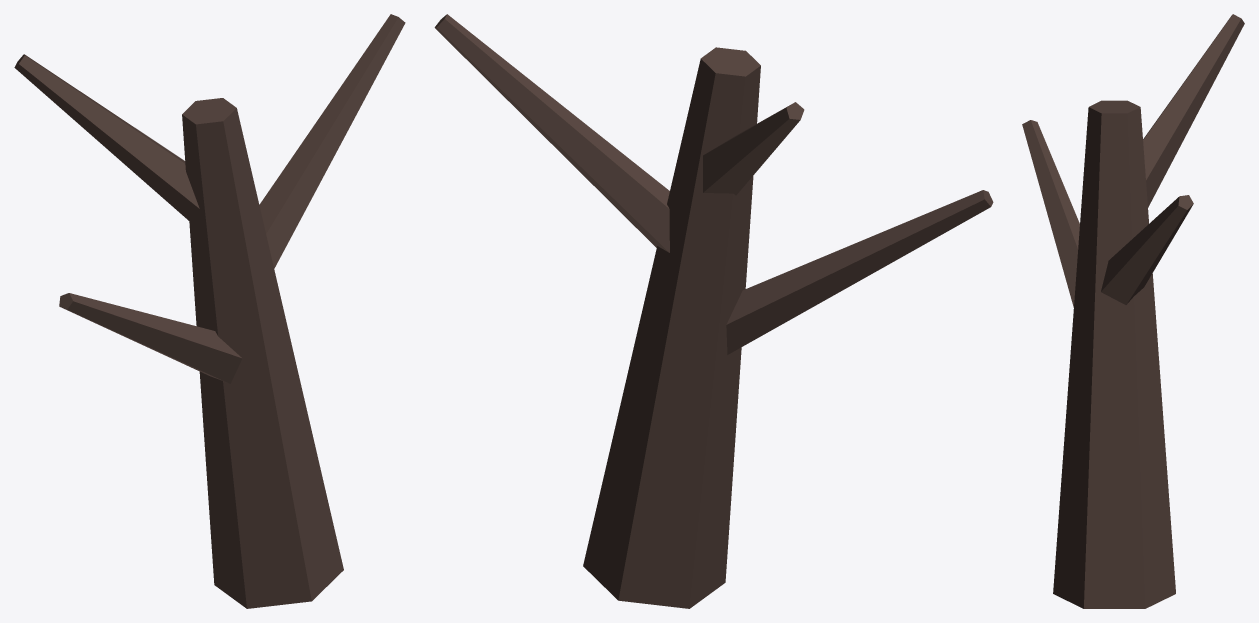
Rendered from EXTG_SouthThorn_03.glb.
3 views of the same model, side by side, from view 1: azimuth 30°, elevation 25°; view 2: azimuth 150°, elevation 25°; view 3: azimuth 270°, elevation 25° (orthographic). The views are drawn at different scales.
Visible parts, largest first — view 1: EXTG_SouthThorn_03; view 2: EXTG_SouthThorn_03; view 3: EXTG_SouthThorn_03.
Part boxes in pixels (x1,y1,x2,y2): EXTG_SouthThorn_03: (14, 14, 405, 608); EXTG_SouthThorn_03: (434, 14, 993, 608); EXTG_SouthThorn_03: (1022, 14, 1244, 608).
Bounding box in the file's own units: 0.9747 × 1.16 × 0.4705.
